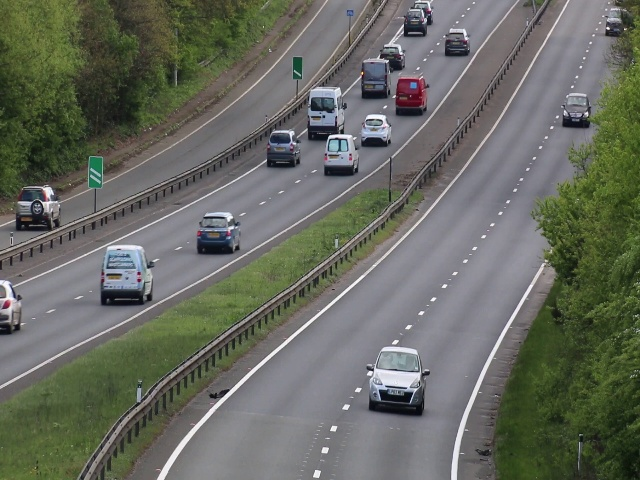car: (367, 345, 427, 417), (101, 243, 154, 305), (11, 185, 65, 231), (305, 85, 348, 140), (196, 210, 241, 255), (263, 129, 305, 168), (323, 135, 359, 177), (359, 55, 392, 98), (395, 75, 428, 114), (560, 90, 591, 130), (1, 281, 23, 334), (359, 113, 391, 146), (403, 8, 429, 35), (445, 28, 470, 56), (381, 44, 407, 68), (605, 9, 619, 36)
